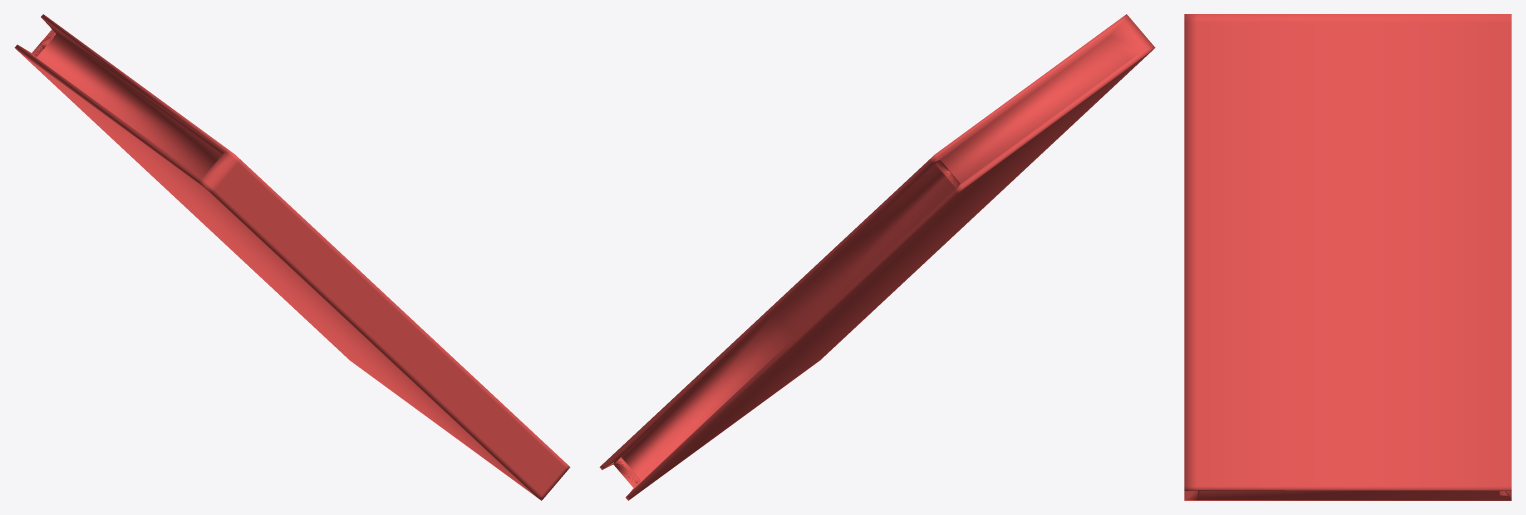
Rendered from K-Book_4.fbx.
3 views of the same model, side by side, from view 1: azimuth 30°, elevation 25°; view 2: azimuth 150°, elevation 25°; view 3: azimuth 270°, elevation 25° (orthographic). The views are drawn at different scales.
Parts seen in each view (by area): view 1: Book.004; view 2: Book.004; view 3: Book.004.
Part boxes in pixels (x1,y1,x2,y2): Book.004: (14,14,570,500); Book.004: (599,14,1155,500); Book.004: (1184,14,1511,500).
Bounding box in the file's own units: 48.47 × 53.59 × 44.2.
